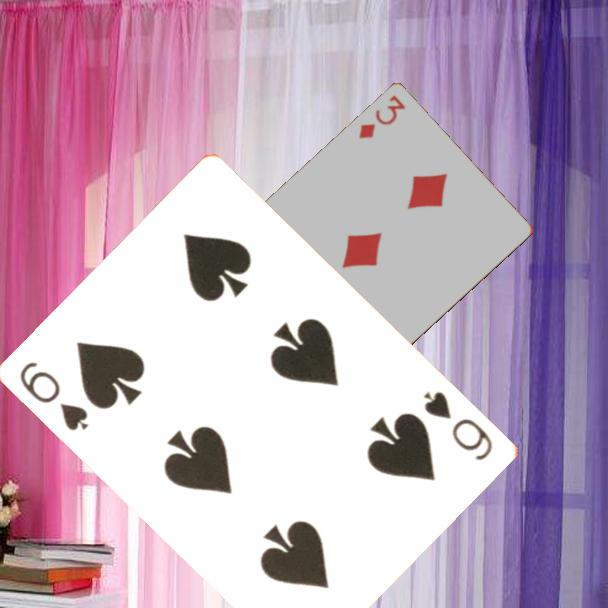d03: (355, 92, 408, 142)
s06: (420, 387, 496, 464), (16, 358, 93, 434)
